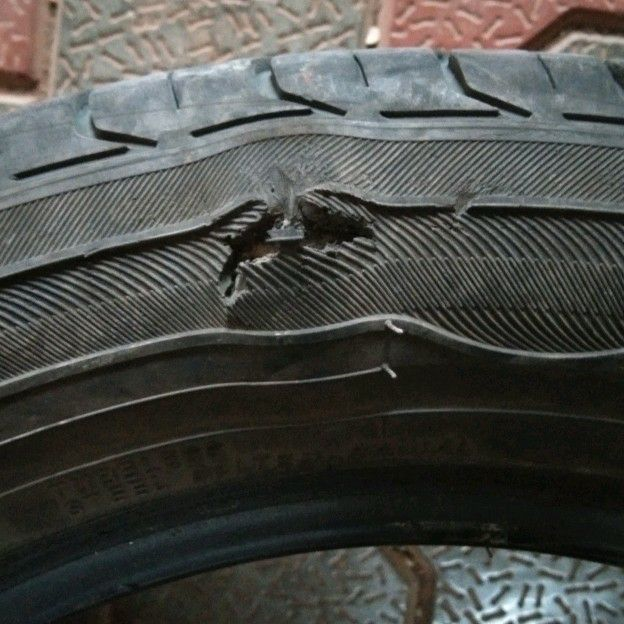CBU: (214, 243, 393, 351)
cut: (222, 199, 373, 300)
